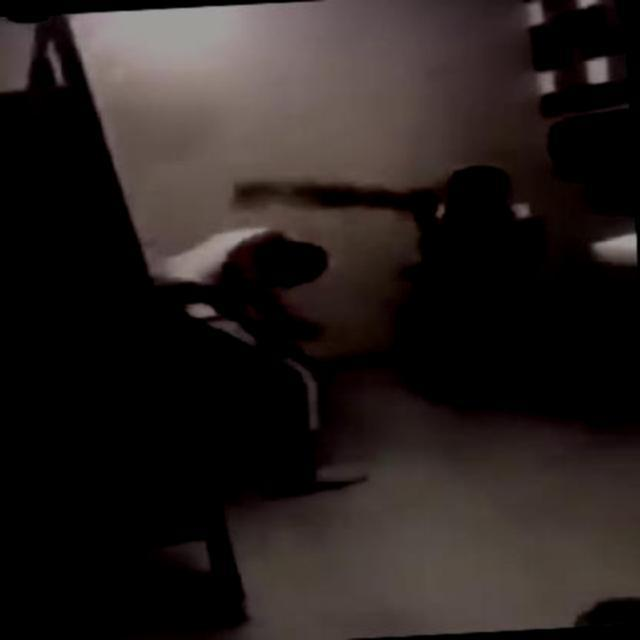fight: (131, 155, 638, 480)
